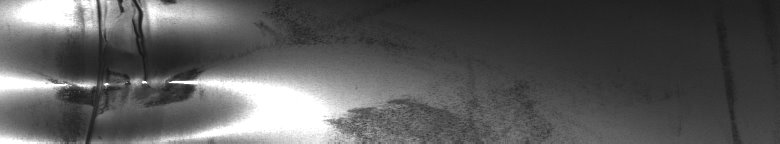ke: (36, 4, 212, 136)
